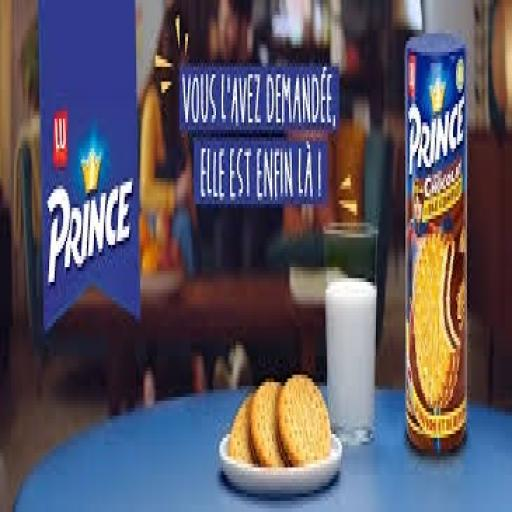prince: (352, 18, 506, 492)
